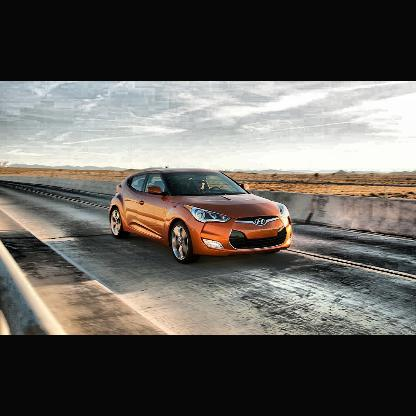Hyundai Veloster Hatchback 2012: (110, 167, 295, 265)
